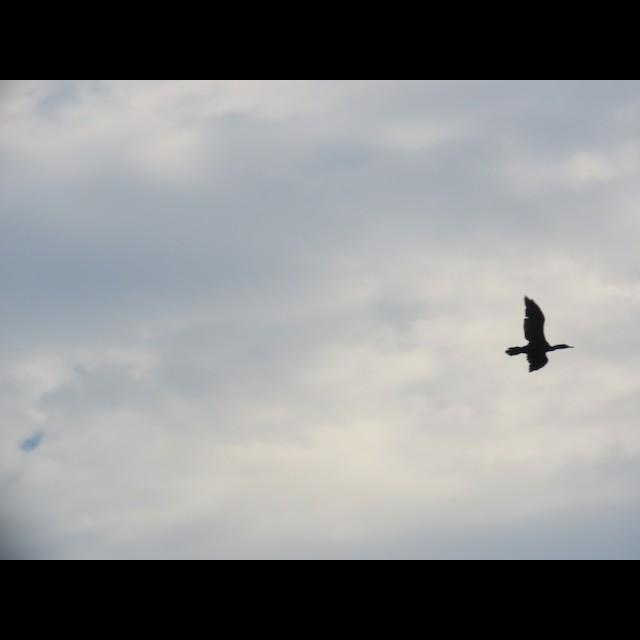cormorant: (504, 294, 576, 374)
